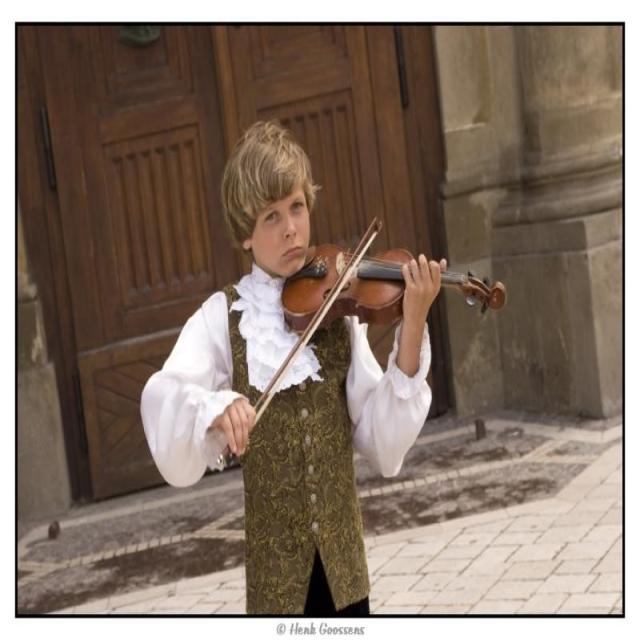violin: (281, 241, 509, 325)
